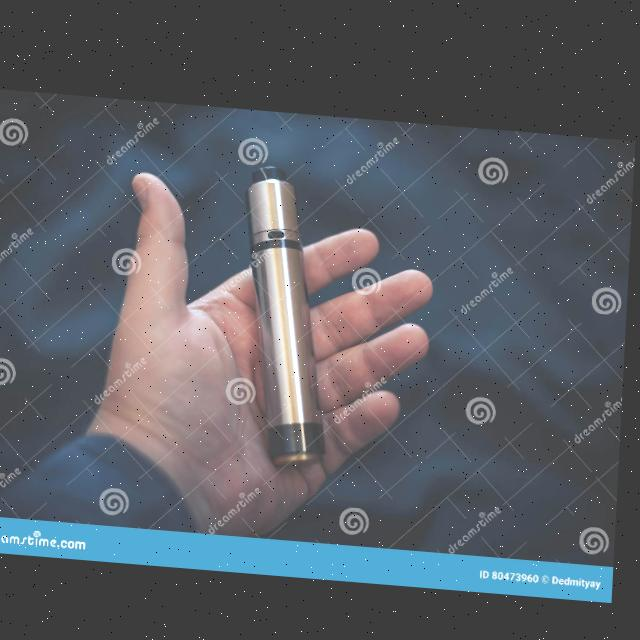vape: (238, 156, 342, 470)
